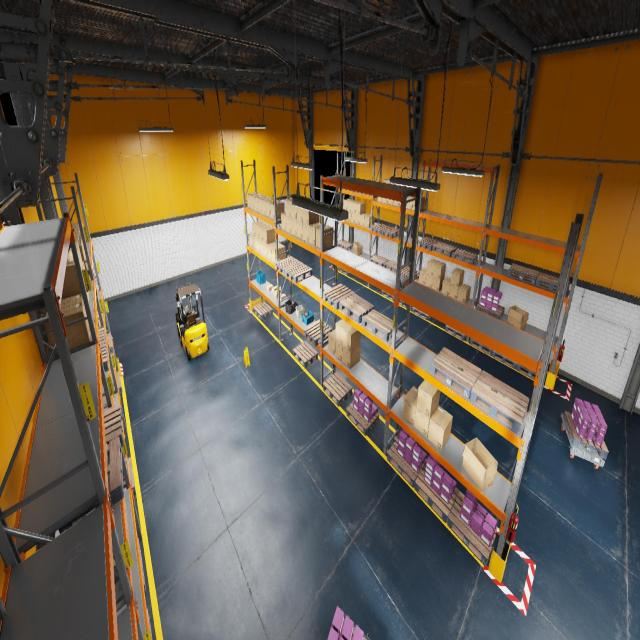box: (44, 302, 90, 355), (462, 438, 498, 491), (46, 294, 90, 329), (427, 405, 453, 451), (417, 379, 440, 418), (62, 258, 82, 300), (414, 406, 438, 438), (402, 386, 418, 426), (507, 306, 529, 329), (342, 324, 360, 352), (342, 344, 360, 369), (68, 246, 83, 275), (316, 224, 333, 249), (309, 222, 326, 246), (70, 242, 84, 269), (335, 319, 349, 345), (457, 284, 471, 304), (302, 209, 319, 225), (75, 238, 86, 262), (72, 224, 86, 242), (270, 201, 284, 219), (265, 200, 279, 218), (267, 242, 281, 260), (451, 268, 464, 287), (258, 224, 272, 241), (272, 244, 285, 262), (433, 261, 446, 279), (78, 241, 86, 268), (426, 258, 438, 276), (328, 329, 336, 355), (449, 284, 462, 300), (258, 196, 270, 213), (254, 195, 266, 212), (263, 227, 275, 244), (255, 222, 267, 239), (252, 220, 264, 237), (250, 194, 262, 210), (432, 276, 444, 292), (441, 277, 451, 296), (412, 196, 425, 210), (247, 193, 259, 208), (262, 198, 272, 215), (335, 340, 342, 362), (83, 278, 89, 301), (285, 198, 292, 217), (364, 215, 374, 228), (297, 220, 303, 240), (419, 268, 426, 285), (353, 242, 362, 255), (356, 202, 365, 215), (302, 223, 308, 242), (291, 218, 297, 237), (125, 508, 129, 536), (84, 268, 88, 296), (425, 274, 433, 288), (359, 214, 368, 226), (352, 201, 361, 213), (347, 200, 356, 212), (406, 196, 414, 209), (127, 529, 131, 554), (343, 198, 351, 210), (291, 201, 296, 220), (281, 212, 286, 231), (286, 216, 291, 234), (263, 242, 268, 258), (297, 207, 302, 222), (94, 276, 98, 294), (124, 494, 127, 516), (249, 232, 253, 247), (274, 286, 281, 294), (260, 240, 264, 254), (256, 238, 260, 252), (252, 236, 256, 250), (355, 214, 360, 225), (97, 312, 100, 329), (97, 308, 100, 324), (72, 222, 83, 226), (351, 212, 355, 223), (347, 211, 351, 222), (67, 253, 73, 260), (280, 293, 286, 300), (274, 292, 280, 299), (394, 200, 400, 207), (267, 284, 273, 290), (400, 201, 406, 207), (388, 199, 394, 205), (74, 234, 82, 238), (73, 230, 81, 234), (272, 286, 277, 292), (384, 178, 390, 183), (383, 198, 388, 204), (82, 261, 85, 269), (73, 228, 80, 231), (378, 197, 382, 202), (389, 180, 392, 184), (88, 276, 90, 280)
forklift: (175, 283, 209, 360)
pallets: (58, 437, 124, 533), (58, 498, 120, 583), (447, 491, 497, 567), (470, 370, 529, 434), (414, 463, 459, 523), (430, 348, 481, 400), (563, 412, 609, 459), (387, 436, 426, 487), (362, 309, 397, 342), (346, 401, 379, 436), (340, 293, 374, 323), (104, 404, 124, 454), (323, 372, 352, 406), (322, 284, 354, 310), (536, 272, 570, 295), (304, 319, 332, 346), (292, 342, 318, 368), (508, 264, 540, 284), (516, 363, 548, 380), (285, 262, 312, 282), (476, 302, 504, 320), (492, 350, 517, 369), (275, 257, 301, 275), (124, 457, 136, 495), (138, 539, 146, 594), (470, 338, 492, 356), (452, 249, 478, 264), (253, 302, 273, 320), (433, 242, 457, 256), (445, 325, 467, 340), (418, 237, 440, 251), (100, 343, 109, 372), (412, 307, 431, 320), (383, 260, 403, 272), (122, 448, 129, 481), (370, 255, 389, 266), (98, 327, 107, 350), (382, 226, 399, 238), (371, 223, 389, 234), (401, 267, 417, 278), (147, 608, 152, 639), (338, 241, 353, 250), (107, 333, 113, 353), (382, 290, 394, 300), (117, 371, 122, 393), (338, 267, 350, 275), (399, 300, 406, 307), (113, 394, 115, 405), (353, 631, 354, 635)
